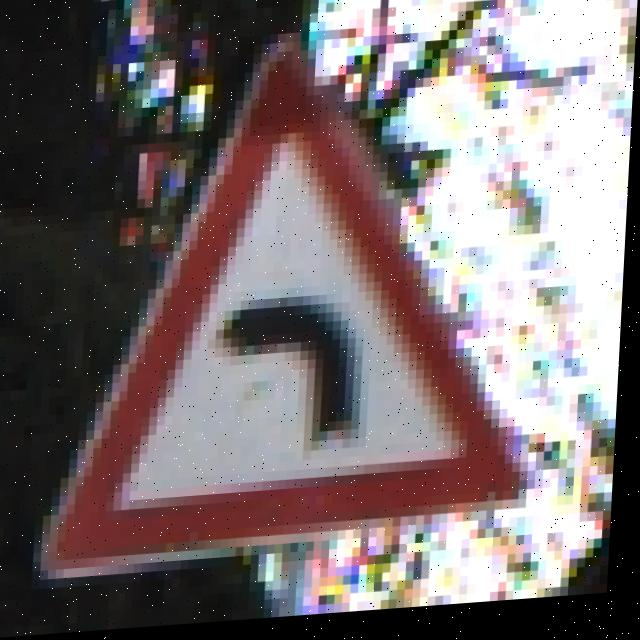left_turn: (67, 96, 561, 562)
